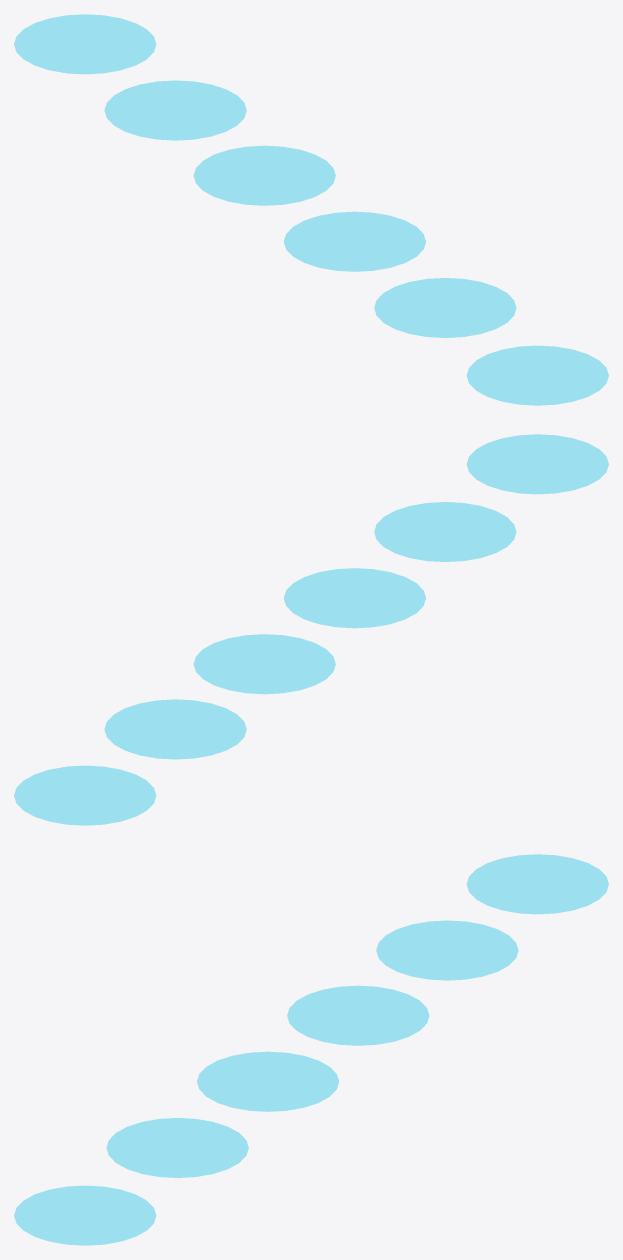
The model's file is path.gltf.
3 views of the same model, one above another, from view 1: azimuth 30°, elevation 25°; view 2: azimuth 150°, elevation 25°; view 3: azimuth 330°, elevation 25° (orthographic).
Visible parts, largest first — view 1: mesh_0 (×6); view 2: mesh_0 (×6); view 3: mesh_0 (×6).
Boxes of the visible parts, bbox=[...] form: mesh_0 (×6): bbox=[14, 14, 608, 405]; mesh_0 (×6): bbox=[14, 434, 608, 825]; mesh_0 (×6): bbox=[14, 854, 608, 1245].
Bounding box in the file's own units: 1.58 × 3.51e-16 × 11.62.
